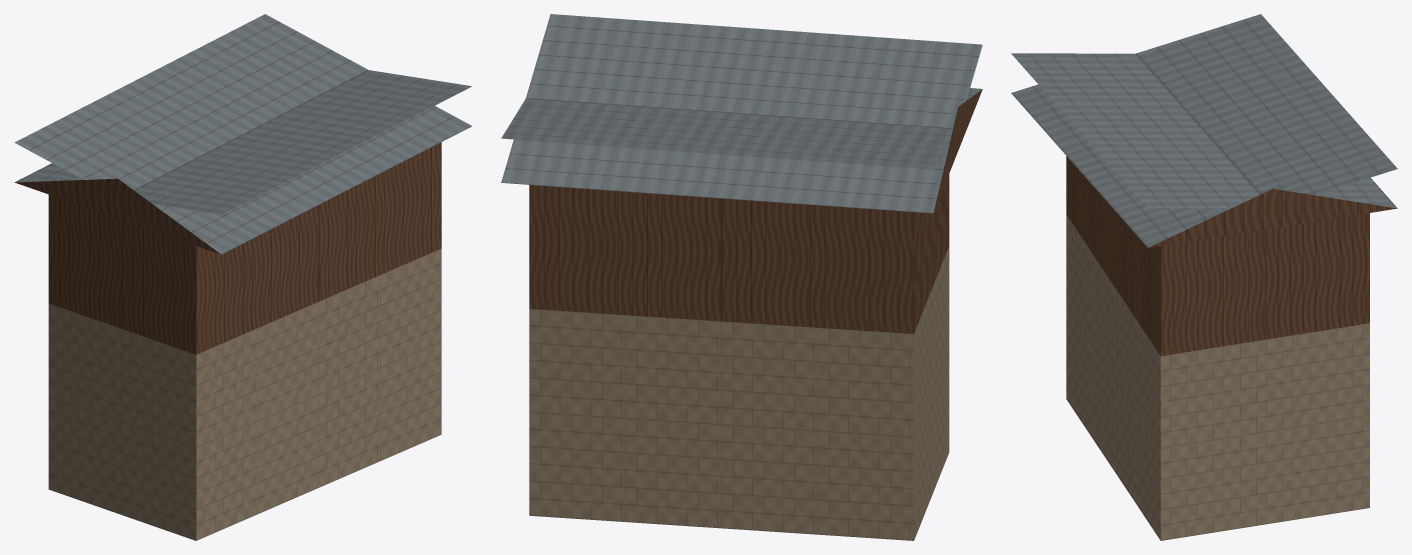
The model's file is bld_c33_-41_439.gltf.
3 renders of one model, left to right at view 1: azimuth 30°, elevation 25°; view 2: azimuth 150°, elevation 25°; view 3: azimuth 270°, elevation 25°, orthographic. The views are drawn at different scales.
Visible parts, largest first — view 1: bld_c33_-41_439; view 2: bld_c33_-41_439; view 3: bld_c33_-41_439.
Part boxes in pixels (<box>): bld_c33_-41_439: <box>14,14,472,540</box>; bld_c33_-41_439: <box>501,14,982,540</box>; bld_c33_-41_439: <box>1011,14,1397,540</box>.
Bounding box in the file's own units: 10.53 × 8.7 × 8.86.
4 materials, 4 textured.
